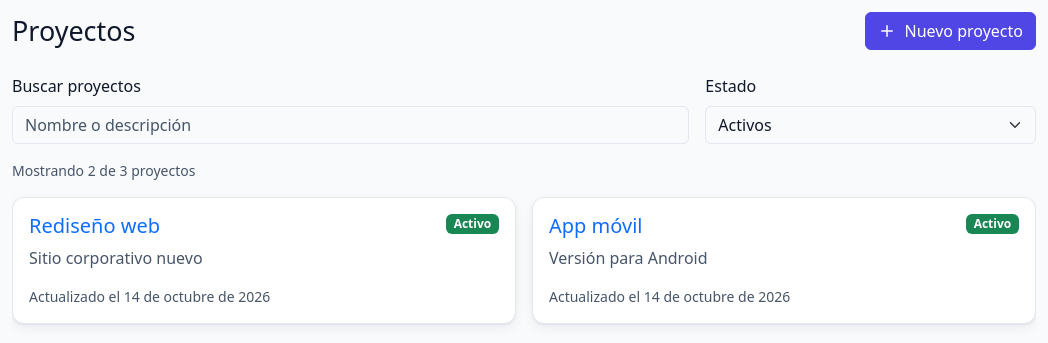
it: PaginaProyectos › la búsqueda ignora mayúsculas y acentos
This screenshot has width=1048, height=343.
Type "REDISENO" into the search field labelled "Buscar proyectos" at x=351, y=125, box [12,106,689,144]
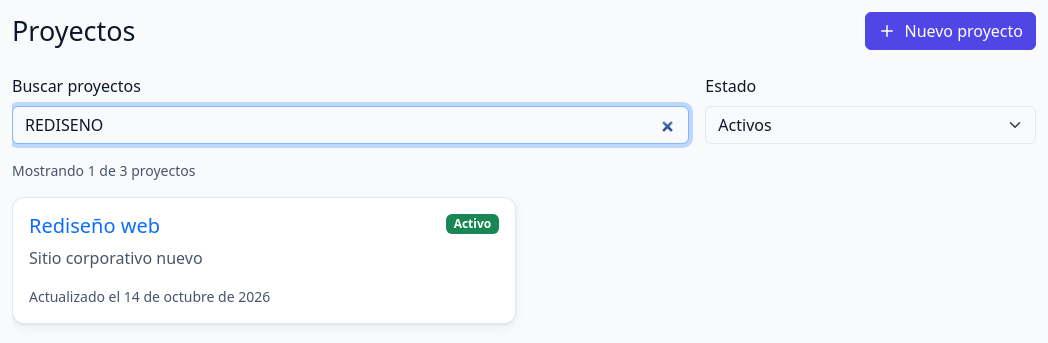
expect the link "Rediseño web" is shown: met, box [29,212,160,239]
expect the link "App móvil" is gone: met
